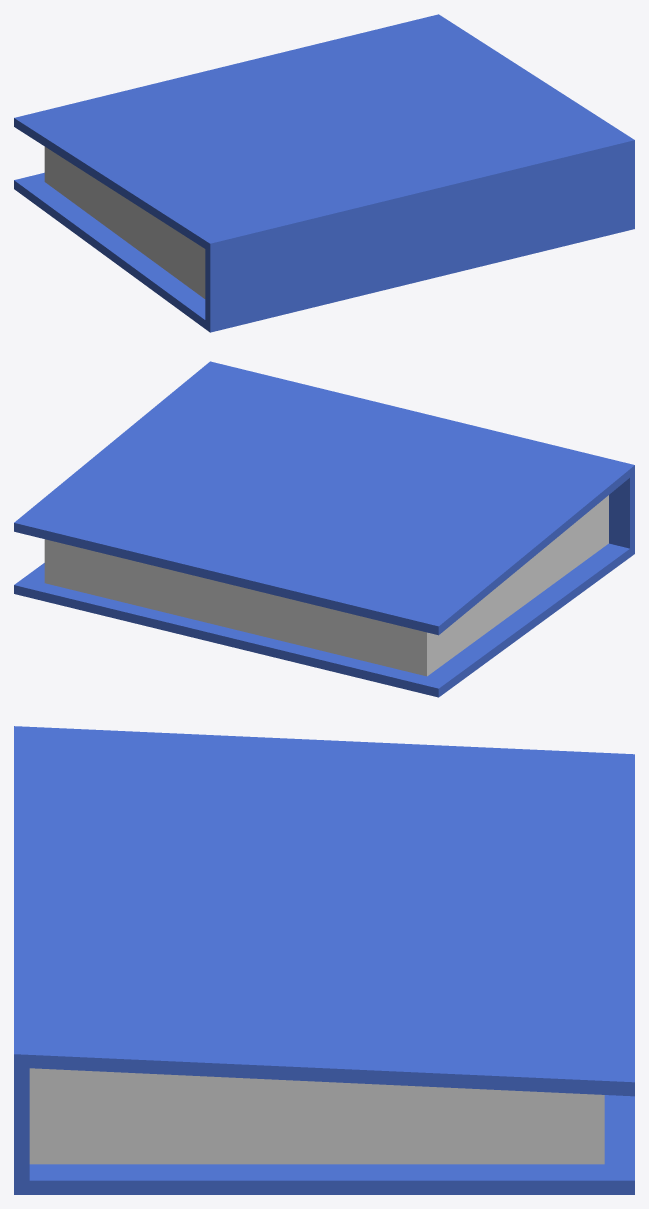
The model's file is folder.fbx.
3 renders of one model, top to bottom at view 1: azimuth 30°, elevation 25°; view 2: azimuth 150°, elevation 25°; view 3: azimuth 270°, elevation 25°, orthographic. The views are drawn at different scales.
Visible parts, largest first — view 1: Binder; view 2: Binder; view 3: Binder.
Part boxes in pixels (bbox=[...]): Binder: bbox=[14, 14, 634, 332]; Binder: bbox=[14, 361, 634, 697]; Binder: bbox=[14, 726, 634, 1194].
Bounding box in the file's own units: 145 × 29.06 × 116.
